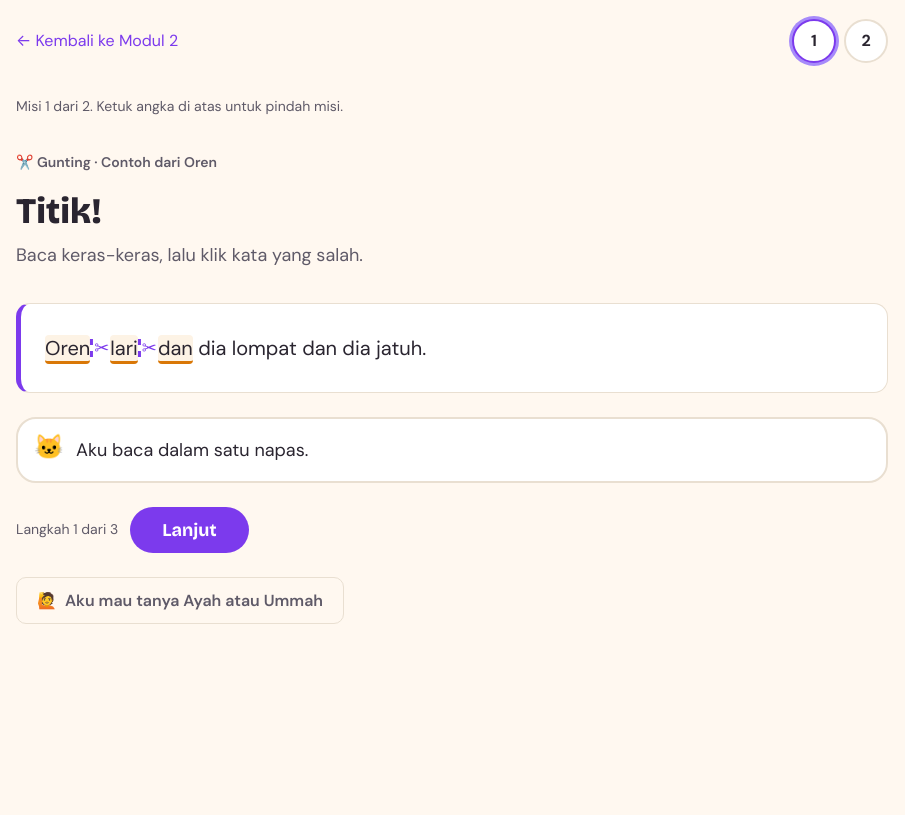
Test: Misi: Gunting dan Detektor Kembar dengan Contoh dari Oren (spec 075 Fase B) › gunting: contoh Oren menyorot celah potongnya, lalu potongan pertama ditunjukkan, kedua bagiannya, sisanya sendiri
Expected: the text "✂️ Gunting · Contoh dari Oren" is shown, 16,153 -> 217,171
Expected: the text "Aku baca dalam satu napas." is shown, 76,435 -> 308,465
Click the button "Lanjut": click(189, 530) 130,507 -> 249,553
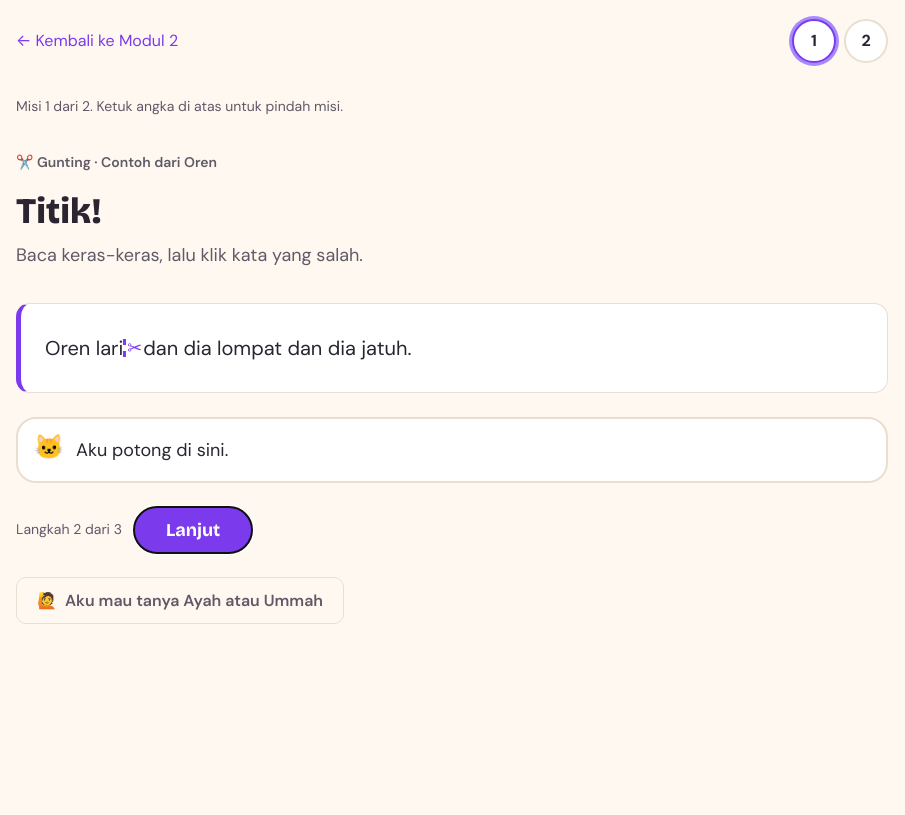
Now the number of pictures named "Oren memotong di sini" is 1, box 123,328 -> 143,368
Click the button "Lanjut": click(193, 530) 134,507 -> 252,553
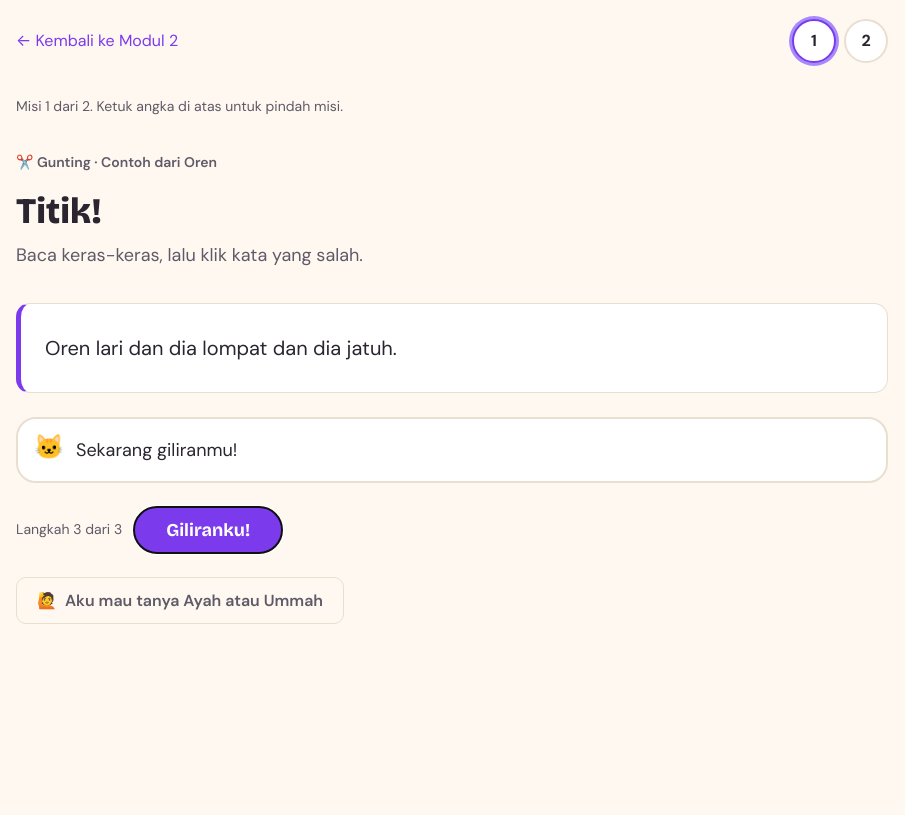
Click the button "Giliranku!": click(208, 530) 134,507 -> 282,553
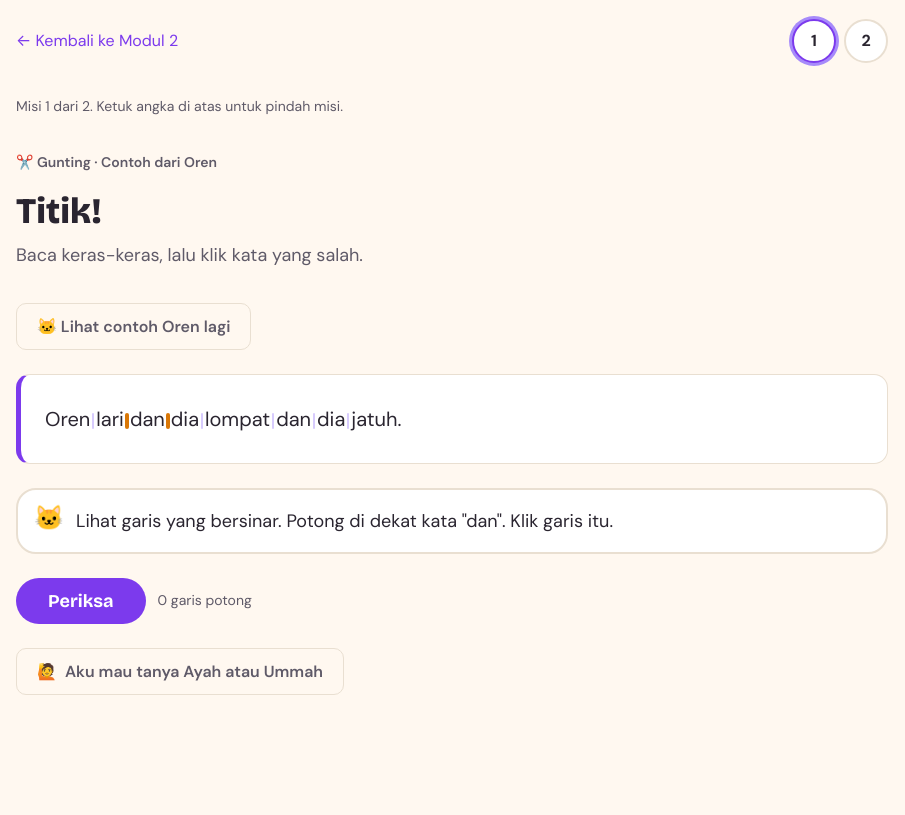
Now the element named "Bantuan Oren" shows "Potong di dekat kata \"dan\".", box 286,509 -> 506,533
Bantuan 2: hanya bagian kalimatnya.
Click the 2nd button named "pasang garis potong di sini": click(127, 421) 124,414 -> 130,428
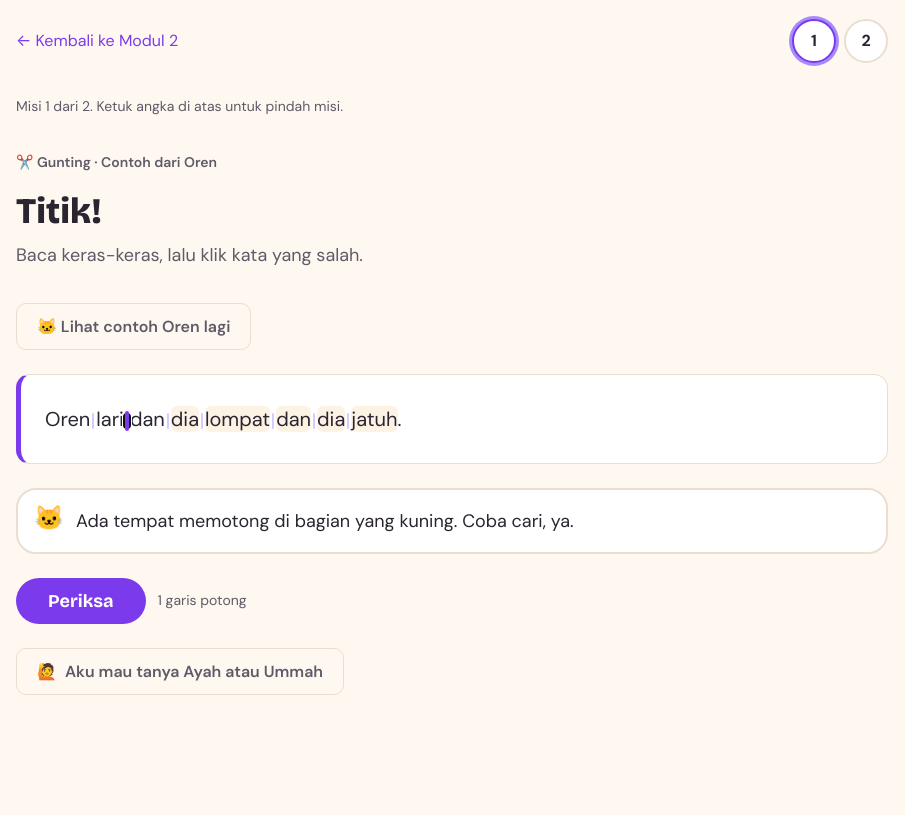
Now the text "Ada tempat memotong di bagian yang kuning. Coba cari, ya." is shown, box 76,506 -> 574,536
Sisanya sendiri.
Click the 5th button named "pasang garis potong di sini": click(273, 421) 270,414 -> 276,428
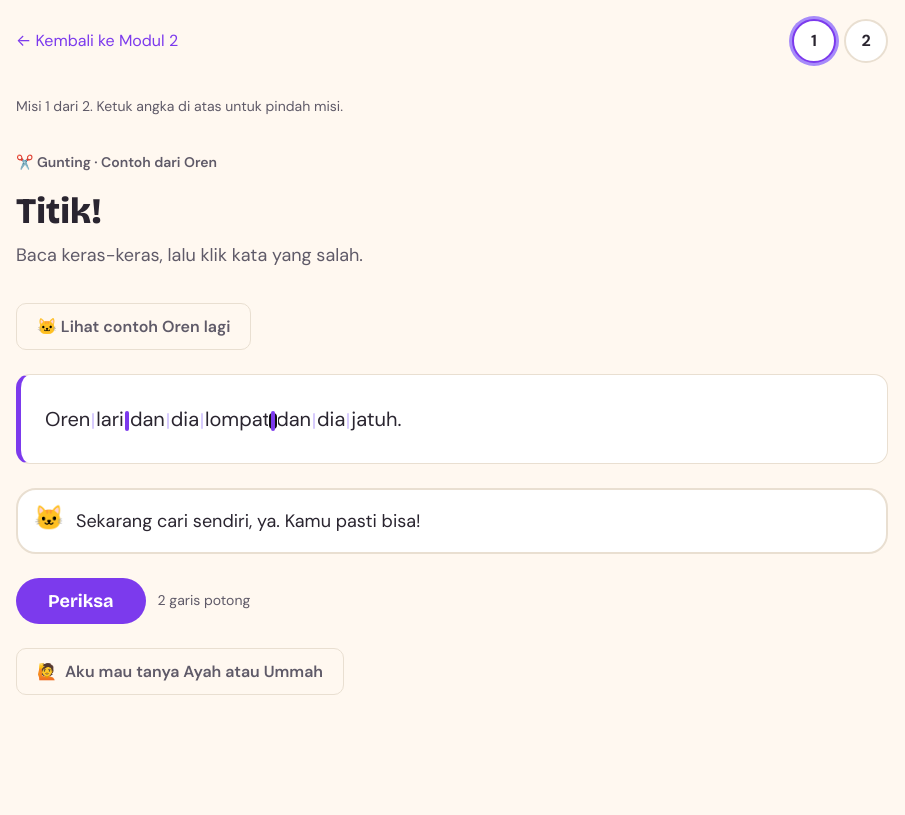
Now the text "Sekarang cari sendiri, ya. Kamu pasti bisa!" is shown, box 76,506 -> 420,536
Click the button "Periksa": click(81, 601) 16,578 -> 146,624
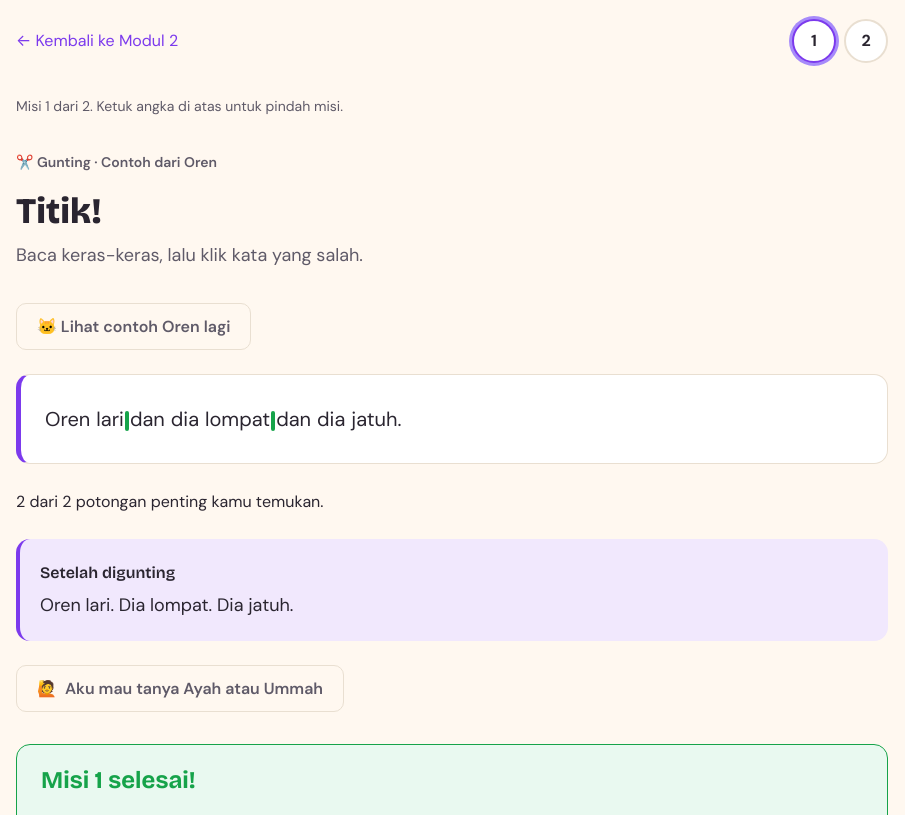
Now the text "Oren lari. Dia lompat. Dia jatuh." is shown, box 40,593 -> 294,617
